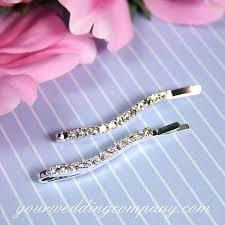bobby pin: (38, 122, 190, 182), (51, 83, 203, 142)
